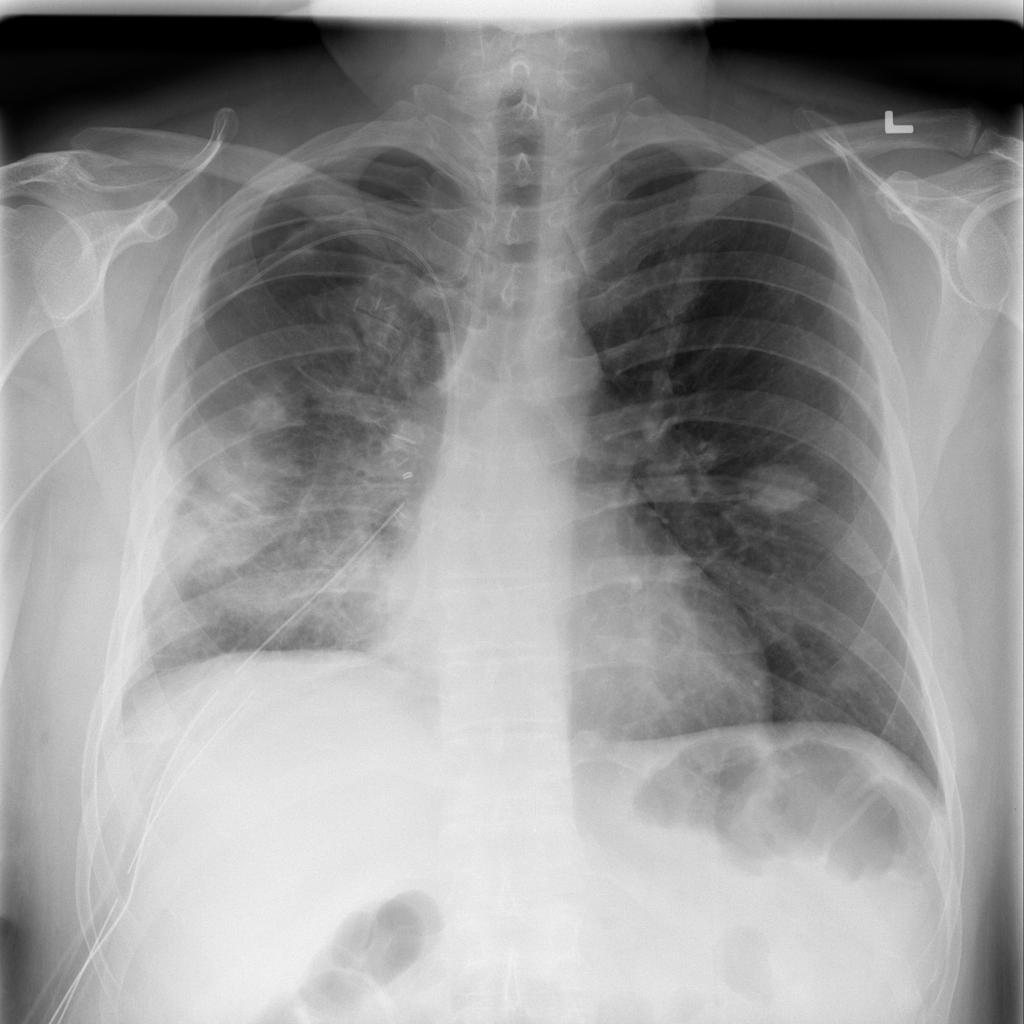nodule: (722, 441, 844, 535)
